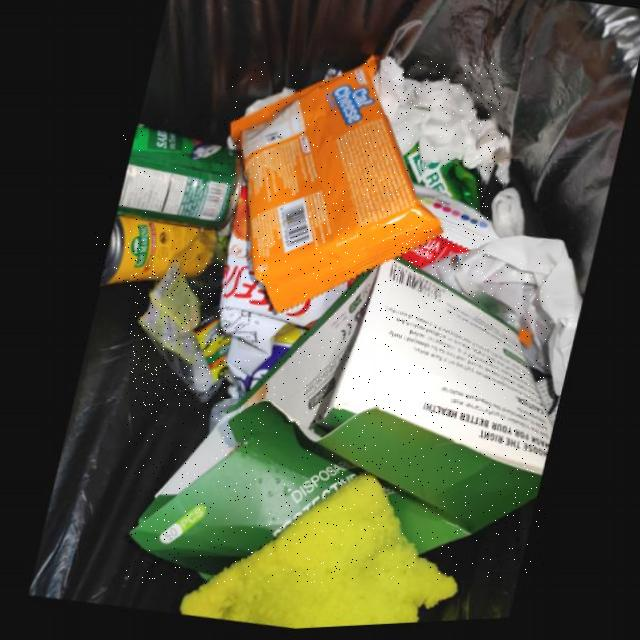metal: (112, 126, 234, 226), (95, 213, 211, 287)
paper: (127, 263, 549, 584), (366, 62, 504, 191)
wrapper: (225, 60, 437, 313), (219, 173, 356, 335), (130, 258, 226, 406), (376, 115, 476, 224), (394, 186, 490, 274)
